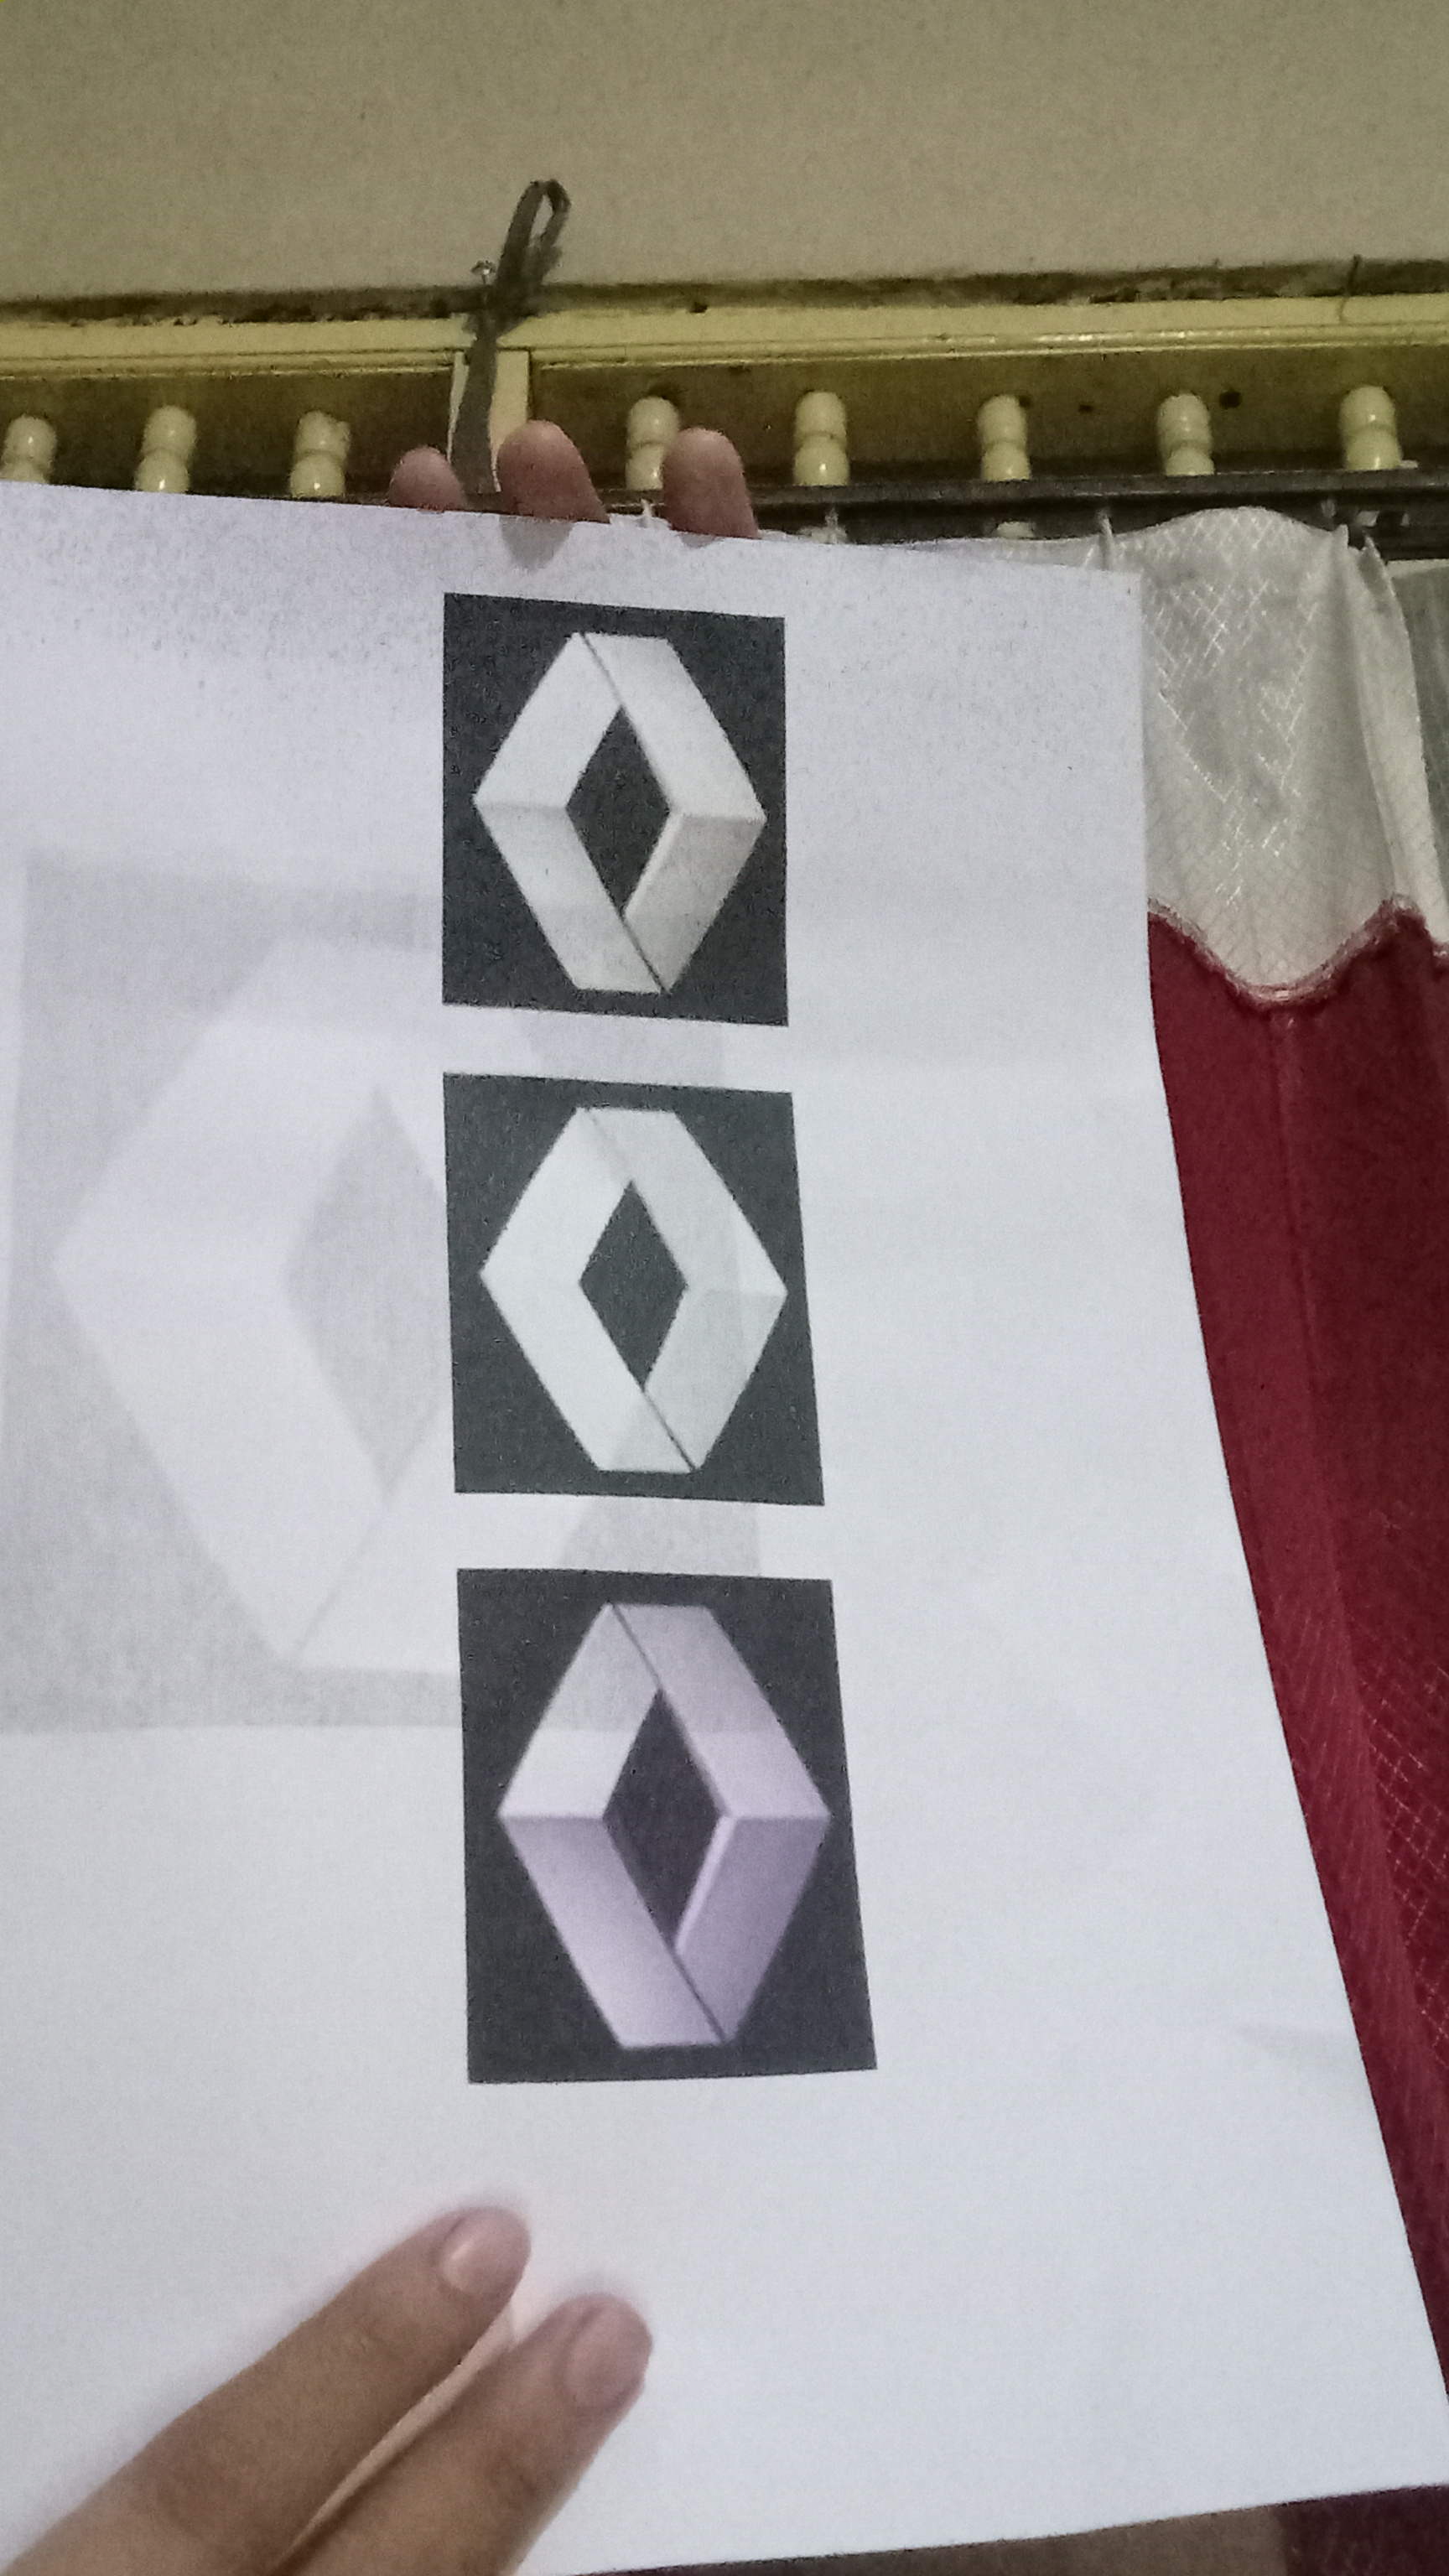Renault: (487, 1580, 846, 2063), (453, 1085, 801, 1491), (449, 603, 777, 1014)
